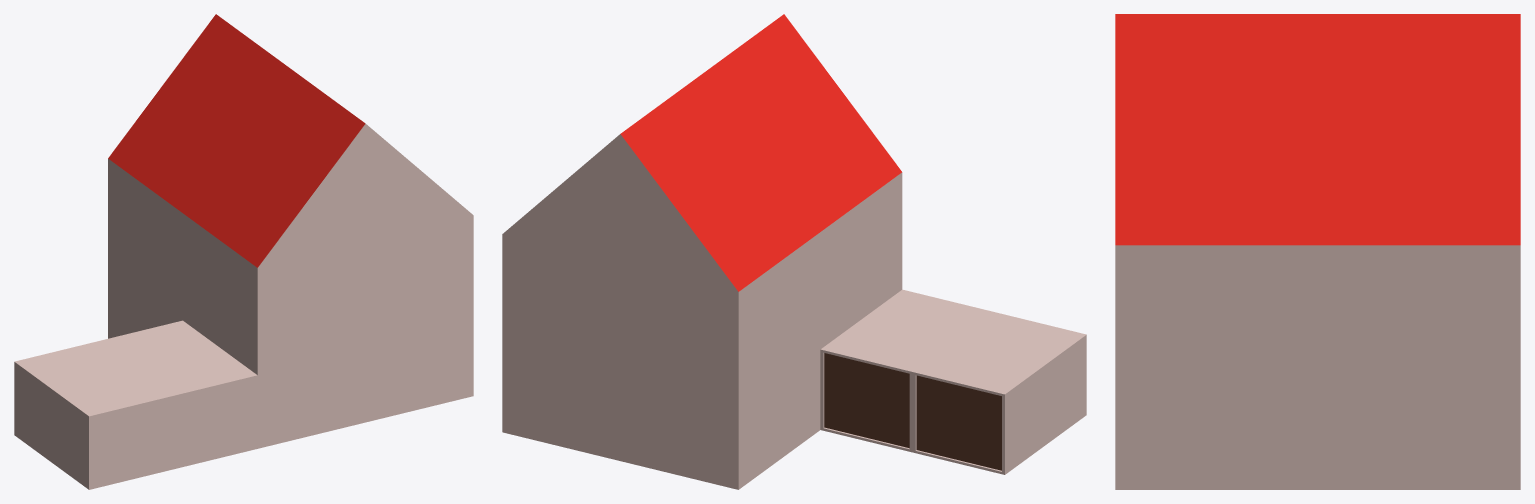
File: NPC_house_3.glb
3 renders of one model, left to right at view 1: azimuth 30°, elevation 25°; view 2: azimuth 150°, elevation 25°; view 3: azimuth 270°, elevation 25°, orthographic. The views are drawn at different scales.
Parts seen in each view (by area): view 1: Cube; view 2: Cube; view 3: Cube.
Part boxes in pixels (x1=…): Cube: x1=14, y1=14, x2=473, y2=489; Cube: x1=502, y1=14, x2=1086, y2=489; Cube: x1=1115, y1=14, x2=1520, y2=489.
Bounding box in the file's own units: 17.8 × 13.23 × 12.
